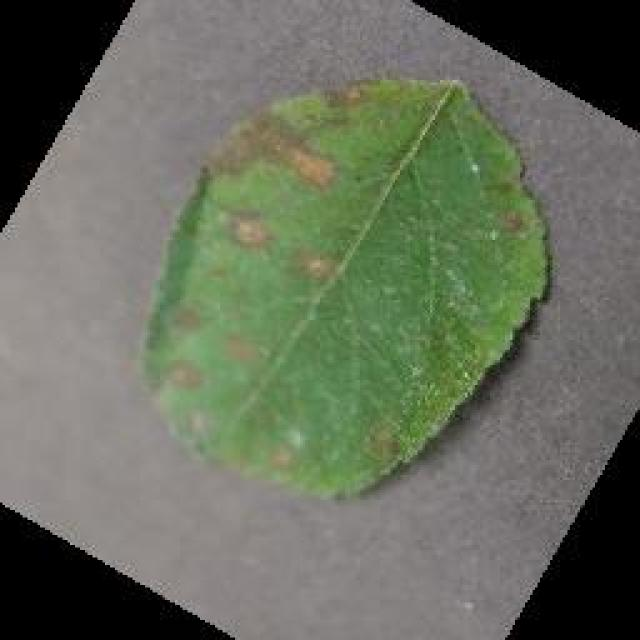Apple___Cedar_apple_rust: (129, 74, 555, 508)
